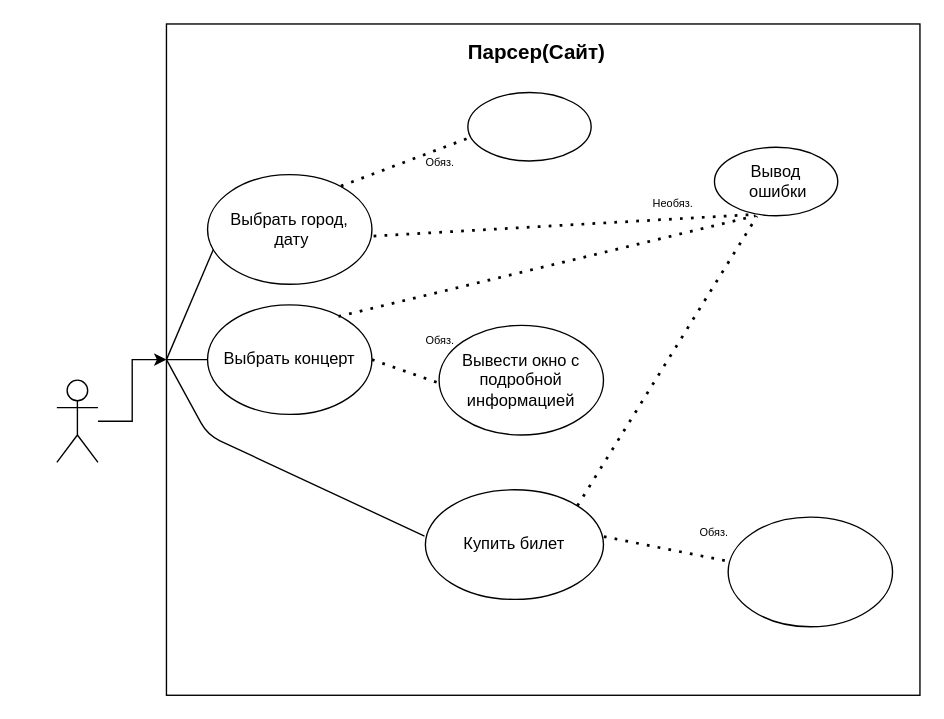
The diagram is 944 pixels wide and 719 high, and some of its shapes have lost their labels. Here are the shapes that lost their labels. From the top down, the centre of each, then its label:
At (x=528, y=126): "Парсинг билетов".
At (x=76, y=420): "Пользователь".
At (x=810, y=571): "Переадресация на страницу концерта".
